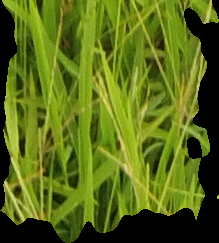grass: (1, 1, 218, 241)
